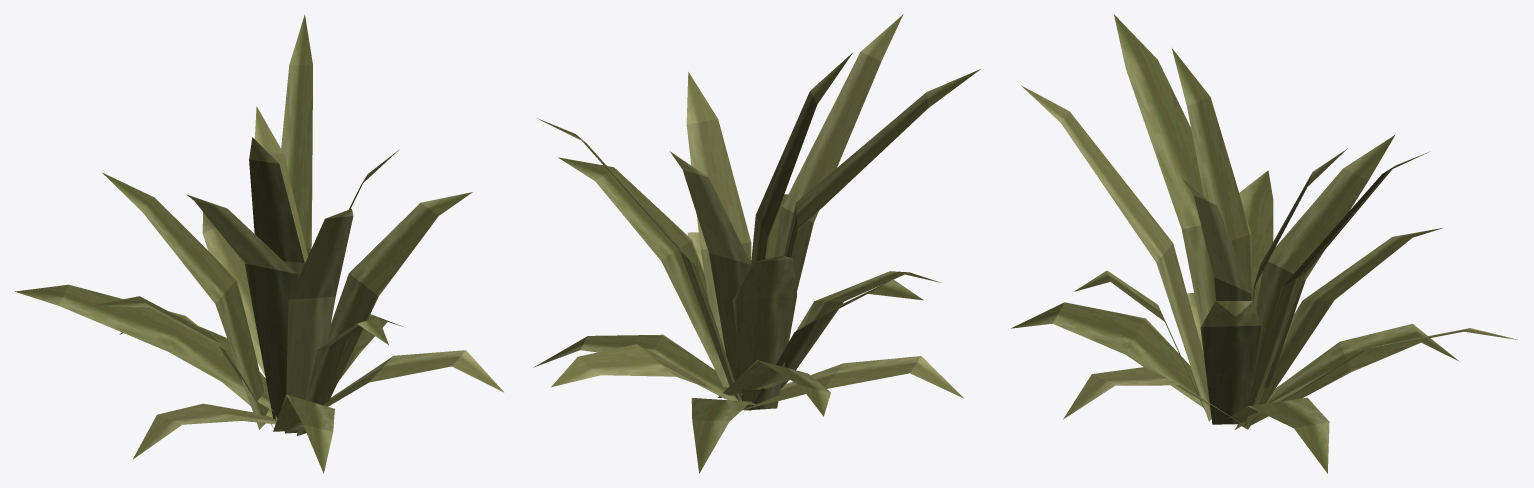
The model's file is C2SNGRSA.obj.
The picture shows the model from 3 angles, left to right: view 1: azimuth 30°, elevation 25°; view 2: azimuth 150°, elevation 25°; view 3: azimuth 270°, elevation 25°; orthographic projection. The views are drawn at different scales.
Parts seen in each view (by area): view 1: Node 0; view 2: Node 0; view 3: Node 0.
Part boxes in pixels (x1=…): Node 0: x1=15, y1=14, x2=503, y2=473; Node 0: x1=534, y1=14, x2=980, y2=473; Node 0: x1=1011, y1=14, x2=1517, y2=473.
Size of the model in its own units: 2.56 by 2.18 by 3.
1 material, 1 textured.
